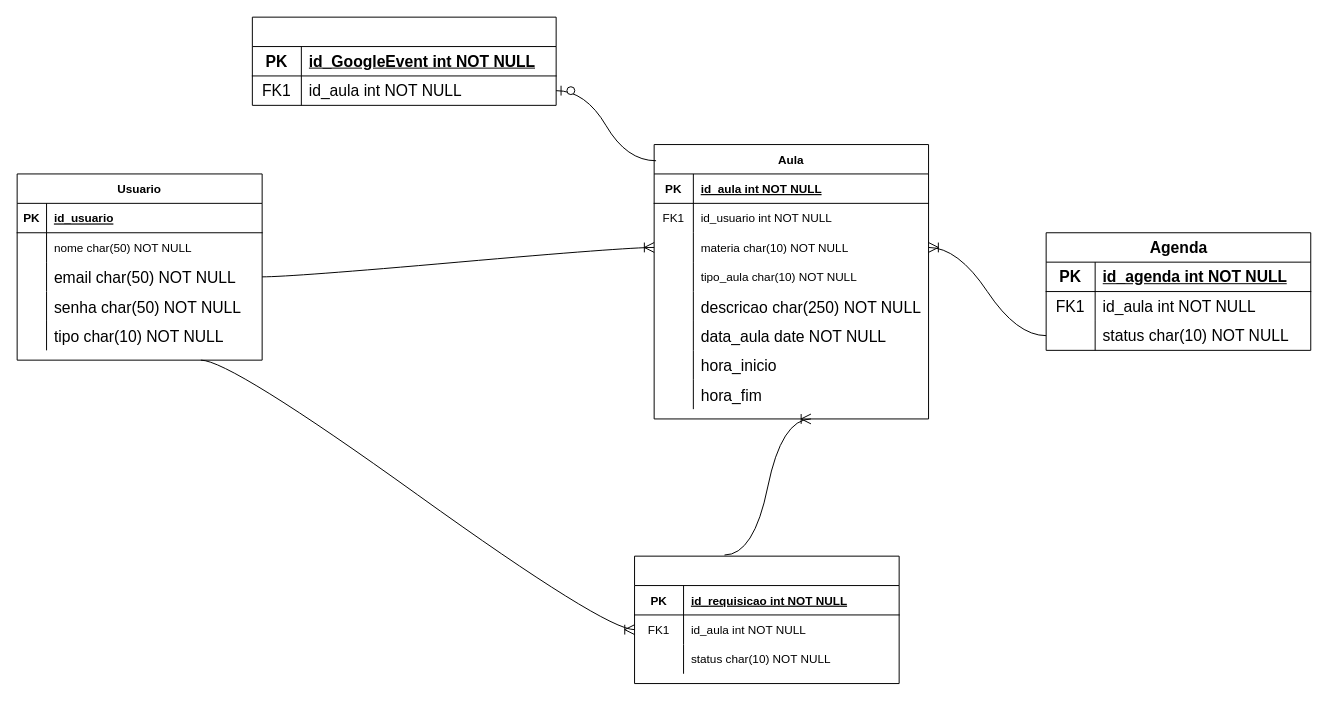
Image size: 1328x701. Some labels were removed from this diagram. Each missing label, with the box of its shape:
GoogleCalendarEvent: (251, 16, 556, 105)
Requisição: (634, 555, 899, 684)
